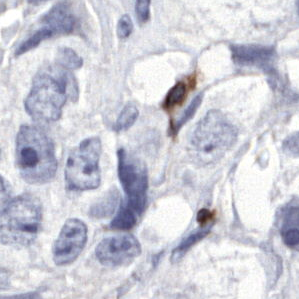Lymphocyte: (160, 75, 189, 113)
